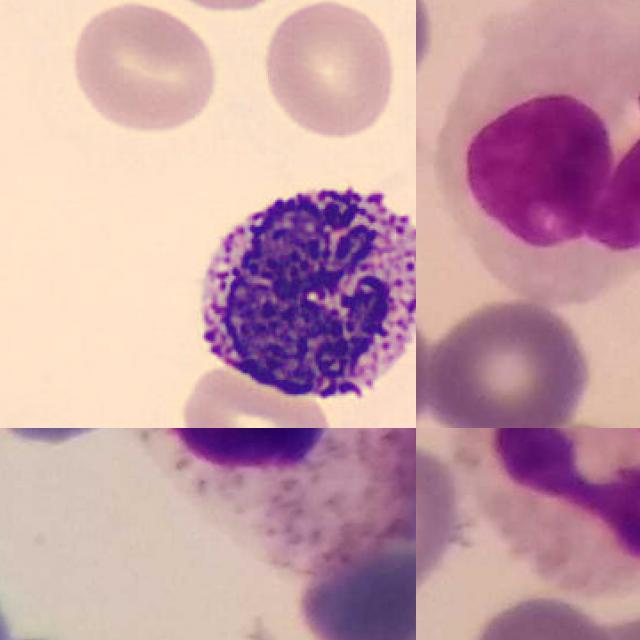Basophil: (179, 163, 416, 428)
Monocyte: (434, 0, 640, 297)
Neutrophil: (148, 428, 416, 566), (458, 428, 640, 595)
RBC: (65, 0, 223, 138), (257, 0, 401, 143), (173, 362, 335, 428), (150, 0, 300, 17)
